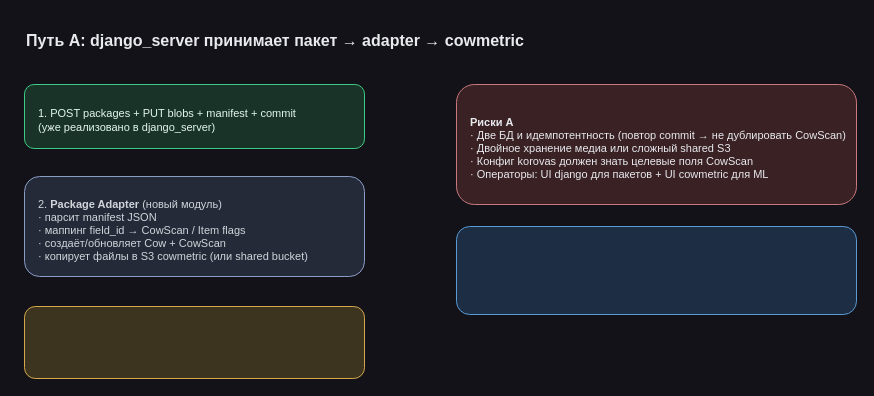
The diagram is 874 pixels wide and 396 high, and some of its shapes have lost their labels. The shapes that lost their labels are listed below. From the top down, each one's centre as x and y in pixels, then its label:
At point (656, 270): "Выигрыш A · ML/CVAT/RQ без переноса · Быстрее, чем full merge".
At point (194, 342): "3. cowmetric: CowScanAdmin inference, compare_inference, CVAT pipeline".
